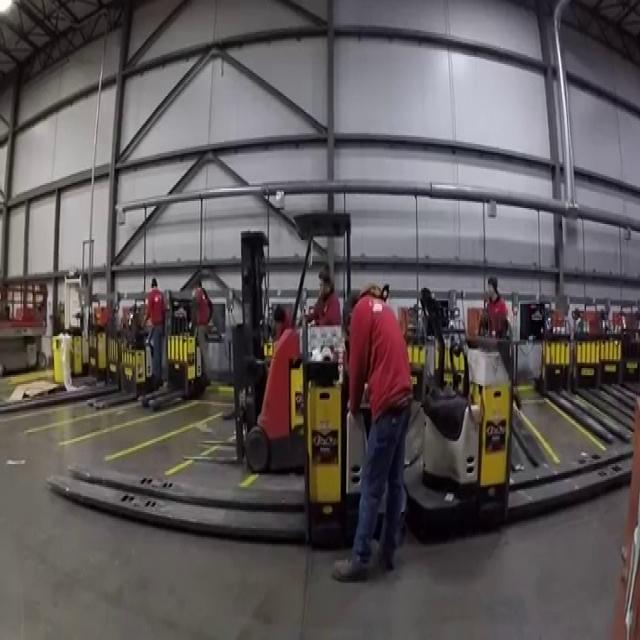Chariot elevateur: (243, 206, 352, 482)
